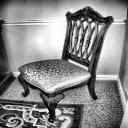chair_success: (8, 4, 116, 124)
